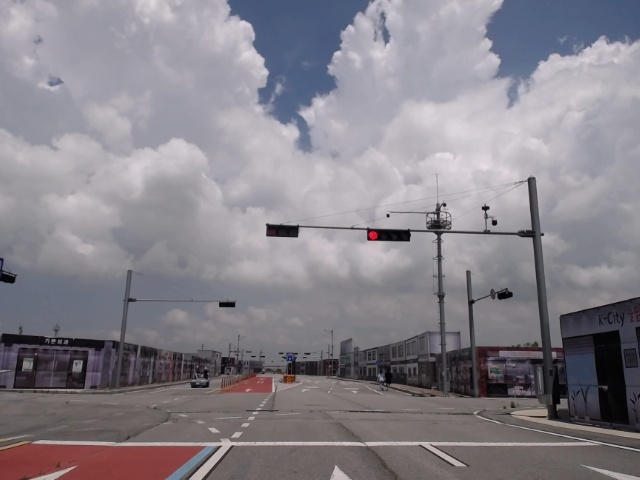red_4: (367, 230, 410, 242)
